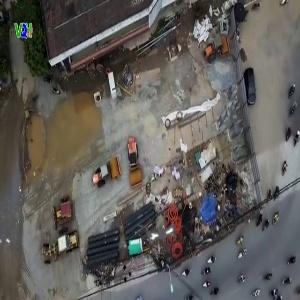drone: (125, 195, 205, 275)
